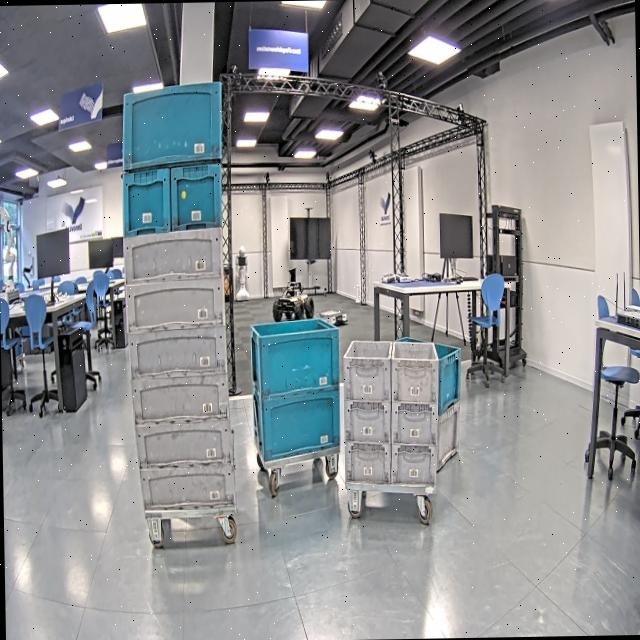Box3G: (123, 224, 225, 285), (123, 274, 225, 330), (126, 322, 224, 378), (136, 461, 237, 512), (135, 414, 230, 468), (131, 371, 227, 424)
Box8G: (340, 336, 392, 402), (390, 338, 438, 404), (338, 439, 392, 485), (390, 398, 440, 447), (340, 400, 392, 447), (388, 444, 438, 486)
BoxB4: (117, 82, 224, 175), (246, 317, 342, 401), (252, 386, 344, 464), (389, 334, 462, 414)
BoxB8: (172, 164, 228, 233), (120, 169, 170, 239)
